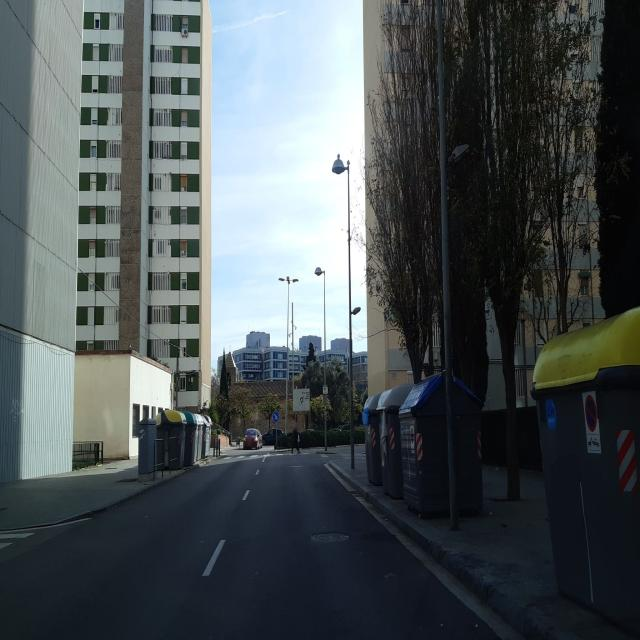forb_stopping: (584, 393, 597, 430)
